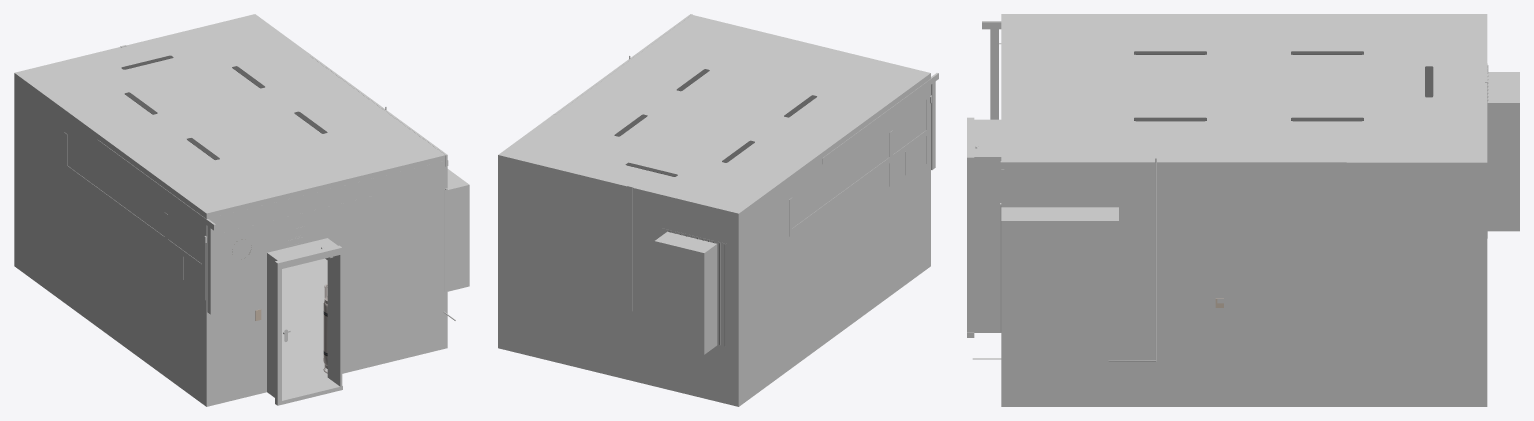
File: PowerSupply.FBX
3 views of the same model, side by side, from view 1: azimuth 30°, elevation 25°; view 2: azimuth 150°, elevation 25°; view 3: azimuth 270°, elevation 25° (orthographic). The views are drawn at different scales.
Visible parts, largest first — view 1: Box226, Box624, Box223, Box222, Box224, Box225, Box220, PowerSupply, Tube004; view 2: Box226, Box222, Box220, Box213, PowerSupply, shtorki002; view 3: Box226, Box624, PowerSupply, Box215, Box222, Box214, Box216, light.
Part boxes in pixels (box(x1,y1,x2,y2)): Box226: box(14, 14, 469, 406); Box624: box(275, 245, 342, 405); Box223: box(208, 160, 448, 254); Box222: box(97, 139, 215, 314); Box224: box(261, 194, 379, 236); Box225: box(204, 211, 260, 323); Box220: box(64, 166, 201, 269); PowerSupply: box(121, 55, 455, 320); Tube004: box(323, 284, 327, 373); Box226: box(498, 15, 930, 406); Box222: box(822, 73, 938, 169); Box220: box(789, 130, 926, 236); Box213: box(627, 185, 633, 310); PowerSupply: box(614, 55, 754, 176); shtorki002: box(660, 228, 726, 346); Box226: box(974, 14, 1519, 406); Box624: box(967, 117, 974, 337); PowerSupply: box(972, 51, 1433, 361); Box215: box(1215, 177, 1223, 333); Box222: box(982, 21, 1001, 119); Box214: box(1346, 161, 1354, 265); Box216: box(1000, 161, 1346, 169); light: box(1134, 51, 1206, 121).
Size of the model in its own units: 0.4761 by 0.3437 by 0.6824.
